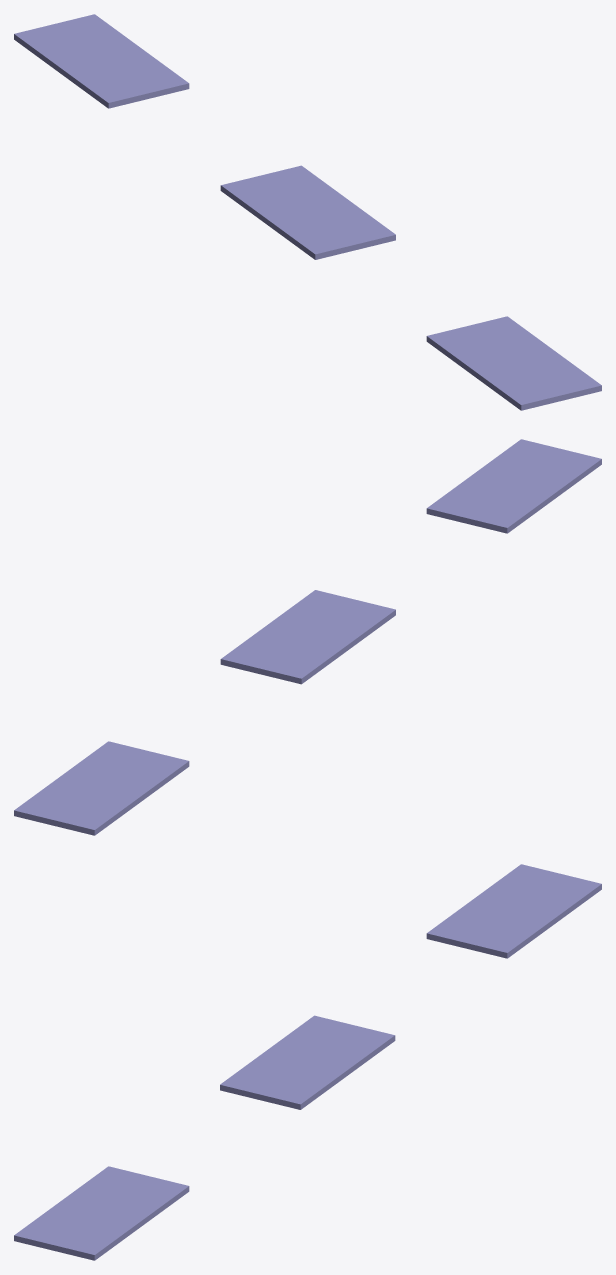
File: QMagSupportTop.gltf
3 renders of one model, top to bottom at view 1: azimuth 30°, elevation 25°; view 2: azimuth 150°, elevation 25°; view 3: azimuth 330°, elevation 25°, orthographic.
Visible parts, largest first — view 1: logicQMagSupportTop_pv0x2230528 (×3); view 2: logicQMagSupportTop_pv0x2230528 (×3); view 3: logicQMagSupportTop_pv0x2230528 (×3).
Boxes of the visible parts, x1,y1,x2,y2 form: logicQMagSupportTop_pv0x2230528 (×3): (14, 14, 601, 410); logicQMagSupportTop_pv0x2230528 (×3): (14, 439, 601, 835); logicQMagSupportTop_pv0x2230528 (×3): (14, 864, 601, 1260).
Size of the model in its own units: 50.29 by 3.38 by 547.
